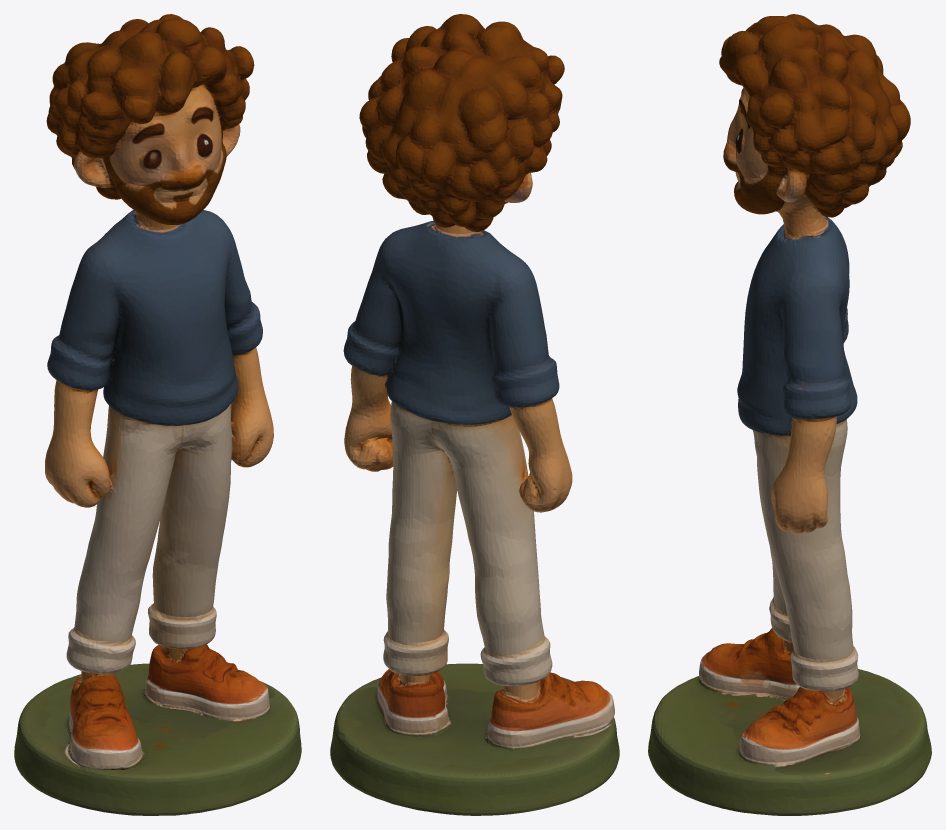
File: marker-lorenzo.glb
3 views of the same model, side by side, from view 1: azimuth 30°, elevation 25°; view 2: azimuth 150°, elevation 25°; view 3: azimuth 270°, elevation 25° (orthographic).
Visible parts, largest first — view 1: textured_mesh.obj; view 2: textured_mesh.obj; view 3: textured_mesh.obj.
Boxes of the visible parts, left/top/right/bottom form: textured_mesh.obj: left=14, top=14, right=301, bottom=815; textured_mesh.obj: left=330, top=14, right=619, bottom=815; textured_mesh.obj: left=648, top=14, right=931, bottom=815.
Size of the model in its own units: 0.7109 by 1.99 by 0.6936.
1 material, 1 textured.
